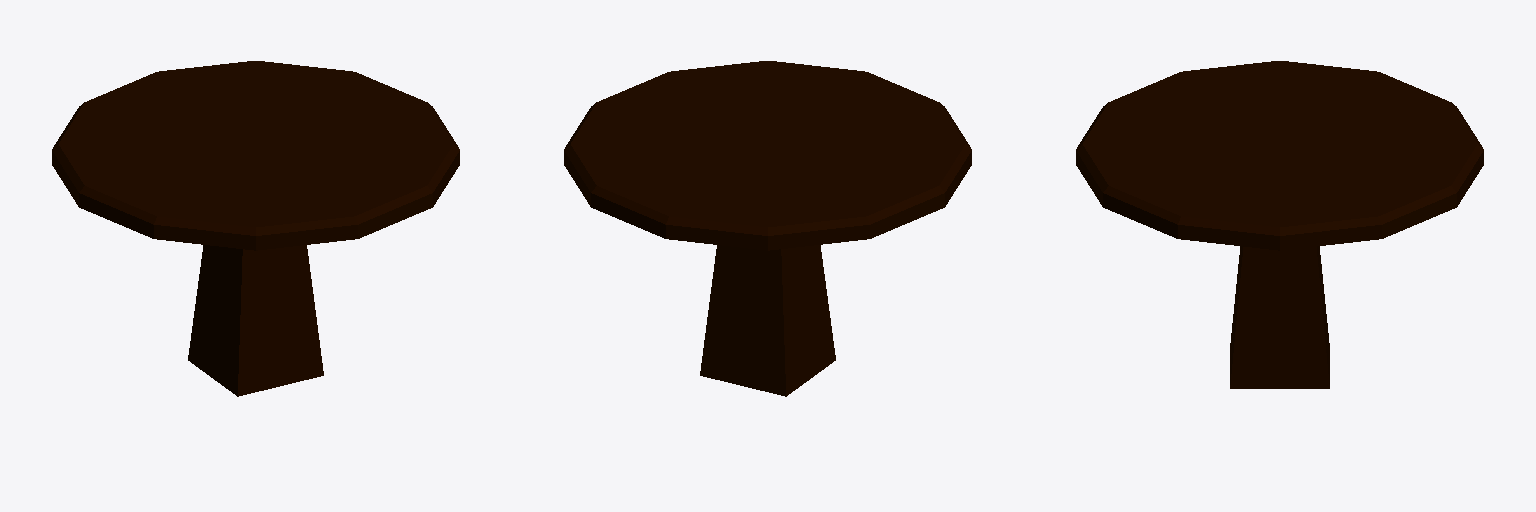
The model's file is Table_03.obj.
3 views of the same model, side by side, from view 1: azimuth 30°, elevation 25°; view 2: azimuth 150°, elevation 25°; view 3: azimuth 270°, elevation 25° (orthographic).
Visible parts, largest first — view 1: Table_03_Circle; view 2: Table_03_Circle; view 3: Table_03_Circle.
Boxes of the visible parts, x1=… form: Table_03_Circle: x1=52, y1=61, x2=459, y2=396; Table_03_Circle: x1=564, y1=61, x2=971, y2=396; Table_03_Circle: x1=1076, y1=61, x2=1483, y2=388.
Size of the model in its own units: 2 by 1.21 by 2.